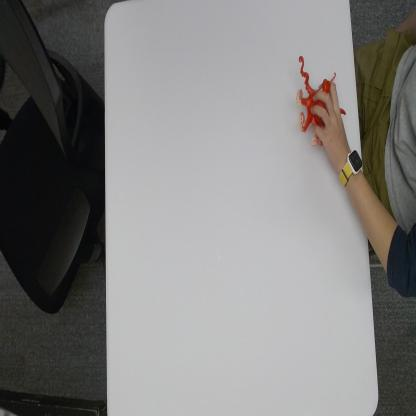Hand: (311, 81, 351, 162)
Octopus: (297, 55, 347, 148)
